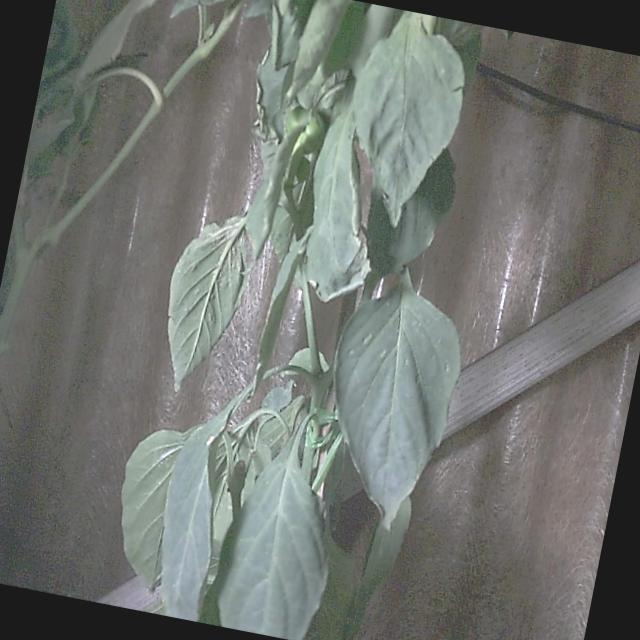Leaf: (334, 273, 459, 526), (352, 11, 463, 224), (218, 435, 326, 639), (167, 217, 244, 390)
